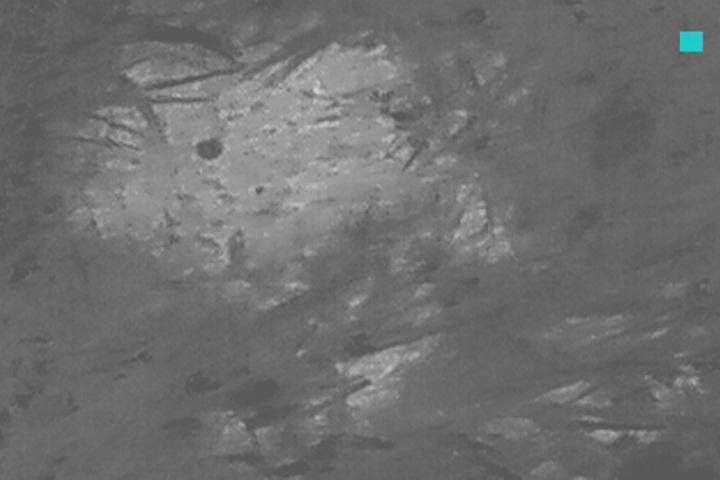landmine: (69, 32, 505, 396)
